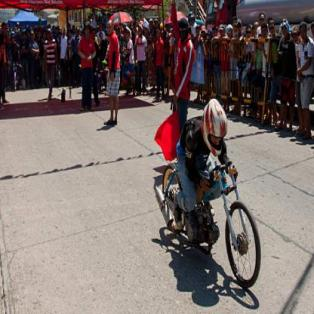Motocicleta: (156, 151, 264, 285)
